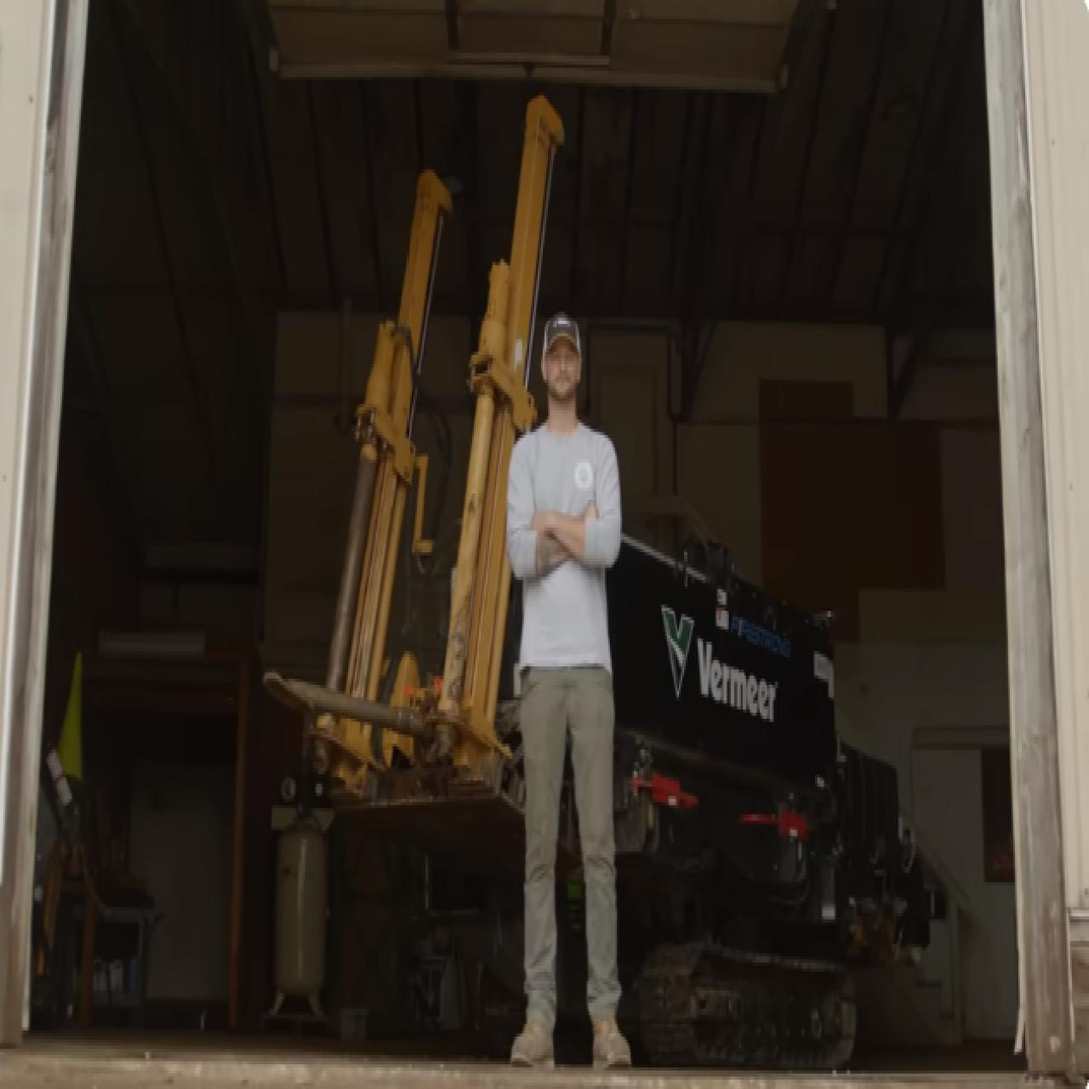NO_Safety_Vest: (513, 420, 605, 683)
Person: (483, 302, 646, 1080)
